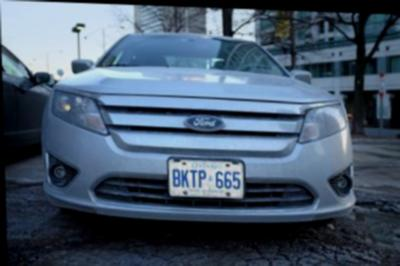License_Plate: (168, 159, 244, 198)
